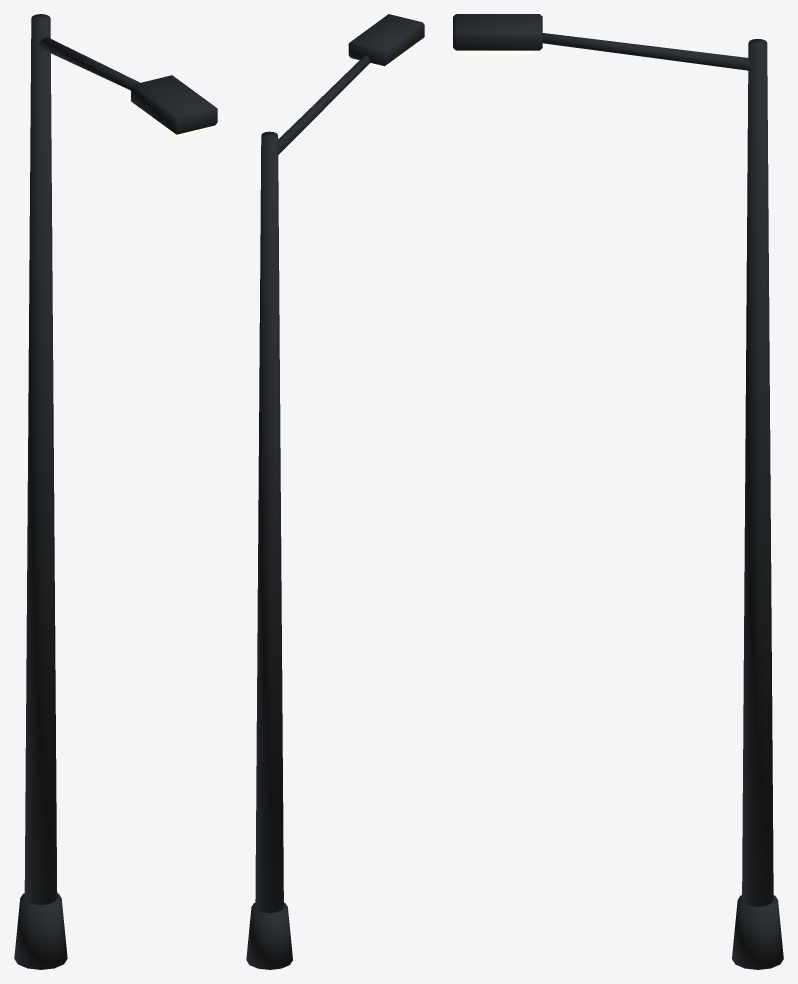
Rendered from SM_LA_Streetlight.glb.
3 views of the same model, side by side, from view 1: azimuth 30°, elevation 25°; view 2: azimuth 150°, elevation 25°; view 3: azimuth 270°, elevation 25° (orthographic). The views are drawn at different scales.
Visible parts, largest first — view 1: SM_LA_Streetlight_Mesh; view 2: SM_LA_Streetlight_Mesh; view 3: SM_LA_Streetlight_Mesh.
Boxes of the visible parts, <box> form: SM_LA_Streetlight_Mesh: <box>14,14,217,969</box>; SM_LA_Streetlight_Mesh: <box>246,14,424,969</box>; SM_LA_Streetlight_Mesh: <box>453,14,783,969</box>.
Size of what is drawn, in the model's own units: 0.36 by 7.15 by 2.29.
Materials: 2 (1 with a texture image).
